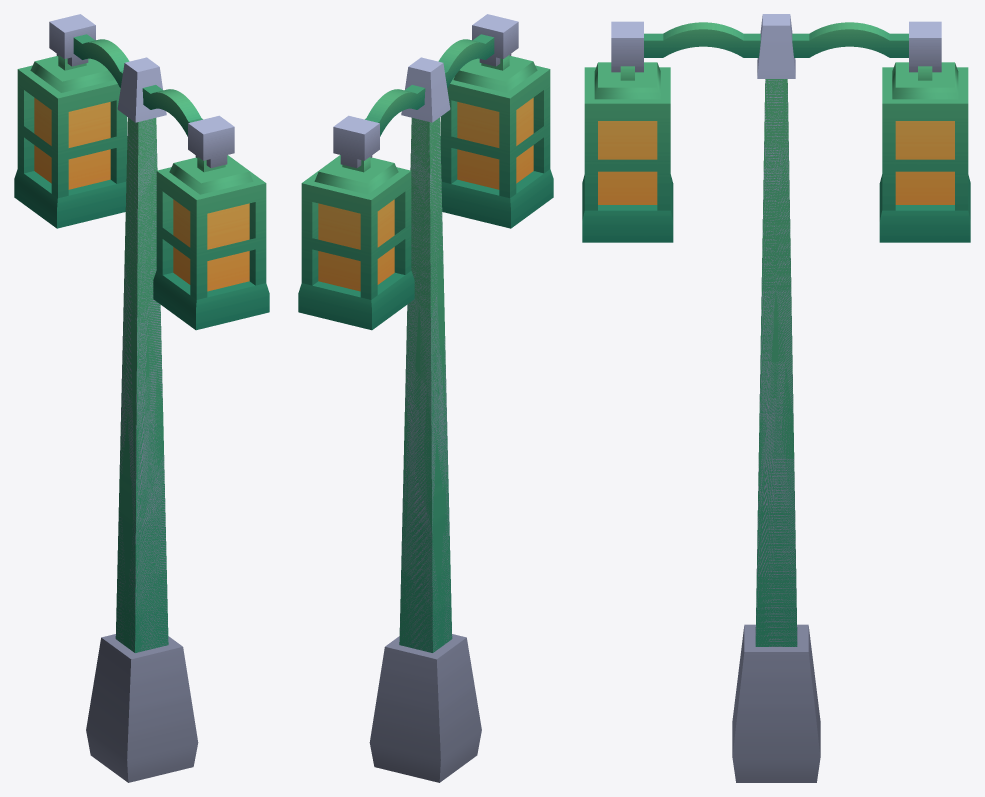
File: lightpost-double.glb
3 renders of one model, left to right at view 1: azimuth 30°, elevation 25°; view 2: azimuth 150°, elevation 25°; view 3: azimuth 270°, elevation 25°, orthographic. The views are drawn at different scales.
Parts seen in each view (by area): view 1: Asset3DLoader.sceneRoot; view 2: Asset3DLoader.sceneRoot; view 3: Asset3DLoader.sceneRoot.
Part boxes in pixels (x1,y1,x2,y2): Asset3DLoader.sceneRoot: [14, 14, 269, 782]; Asset3DLoader.sceneRoot: [298, 14, 553, 782]; Asset3DLoader.sceneRoot: [582, 14, 970, 782].
Bounding box in the file's own units: 0.1459 × 1.32 × 0.6225.
Materials: 1 (1 with a texture image).
